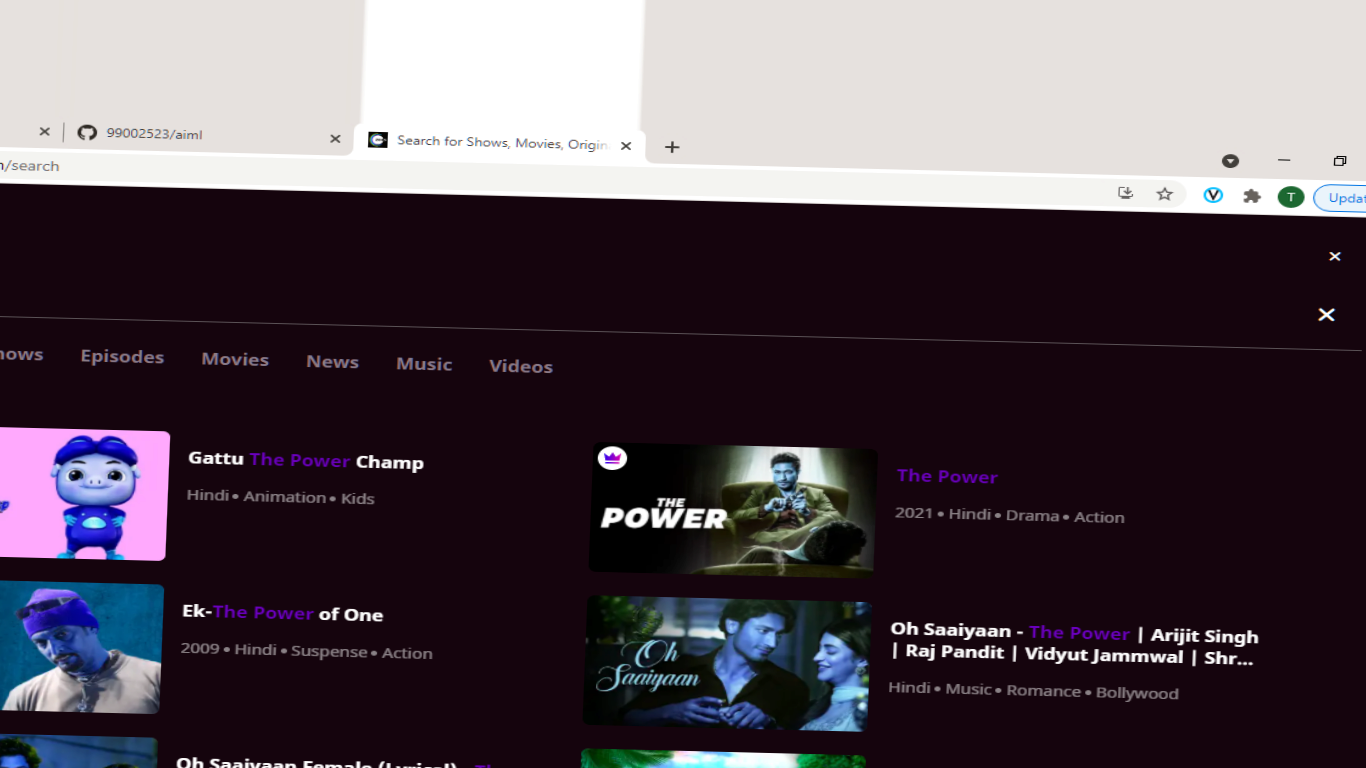searchtextbox: (23, 242, 1348, 344)
